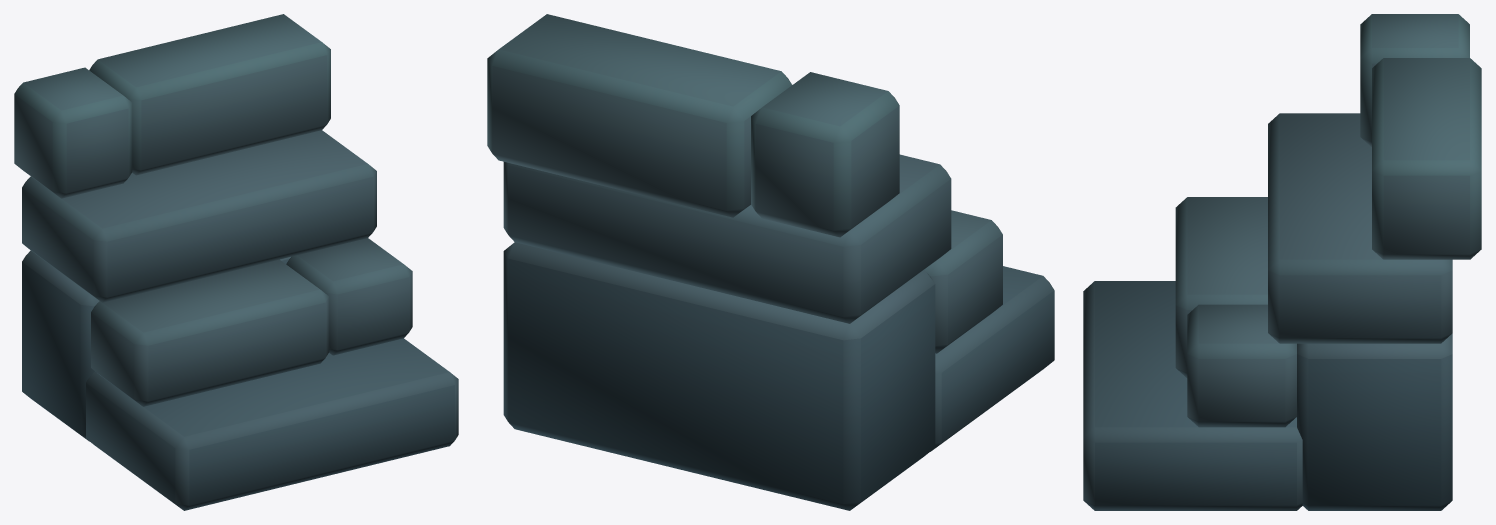
Rendered from stair_straight_2.fbx.
3 renders of one model, left to right at view 1: azimuth 30°, elevation 25°; view 2: azimuth 150°, elevation 25°; view 3: azimuth 270°, elevation 25°, orthographic. The views are drawn at different scales.
Parts seen in each view (by area): view 1: stair_straight_2; view 2: stair_straight_2; view 3: stair_straight_2.
Boxes of the visible parts, left/top/right/bottom form: stair_straight_2: left=14, top=14, right=458, bottom=510; stair_straight_2: left=487, top=14, right=1054, bottom=510; stair_straight_2: left=1083, top=14, right=1481, bottom=510.
Size of the model in its own units: 100 by 105 by 108.
